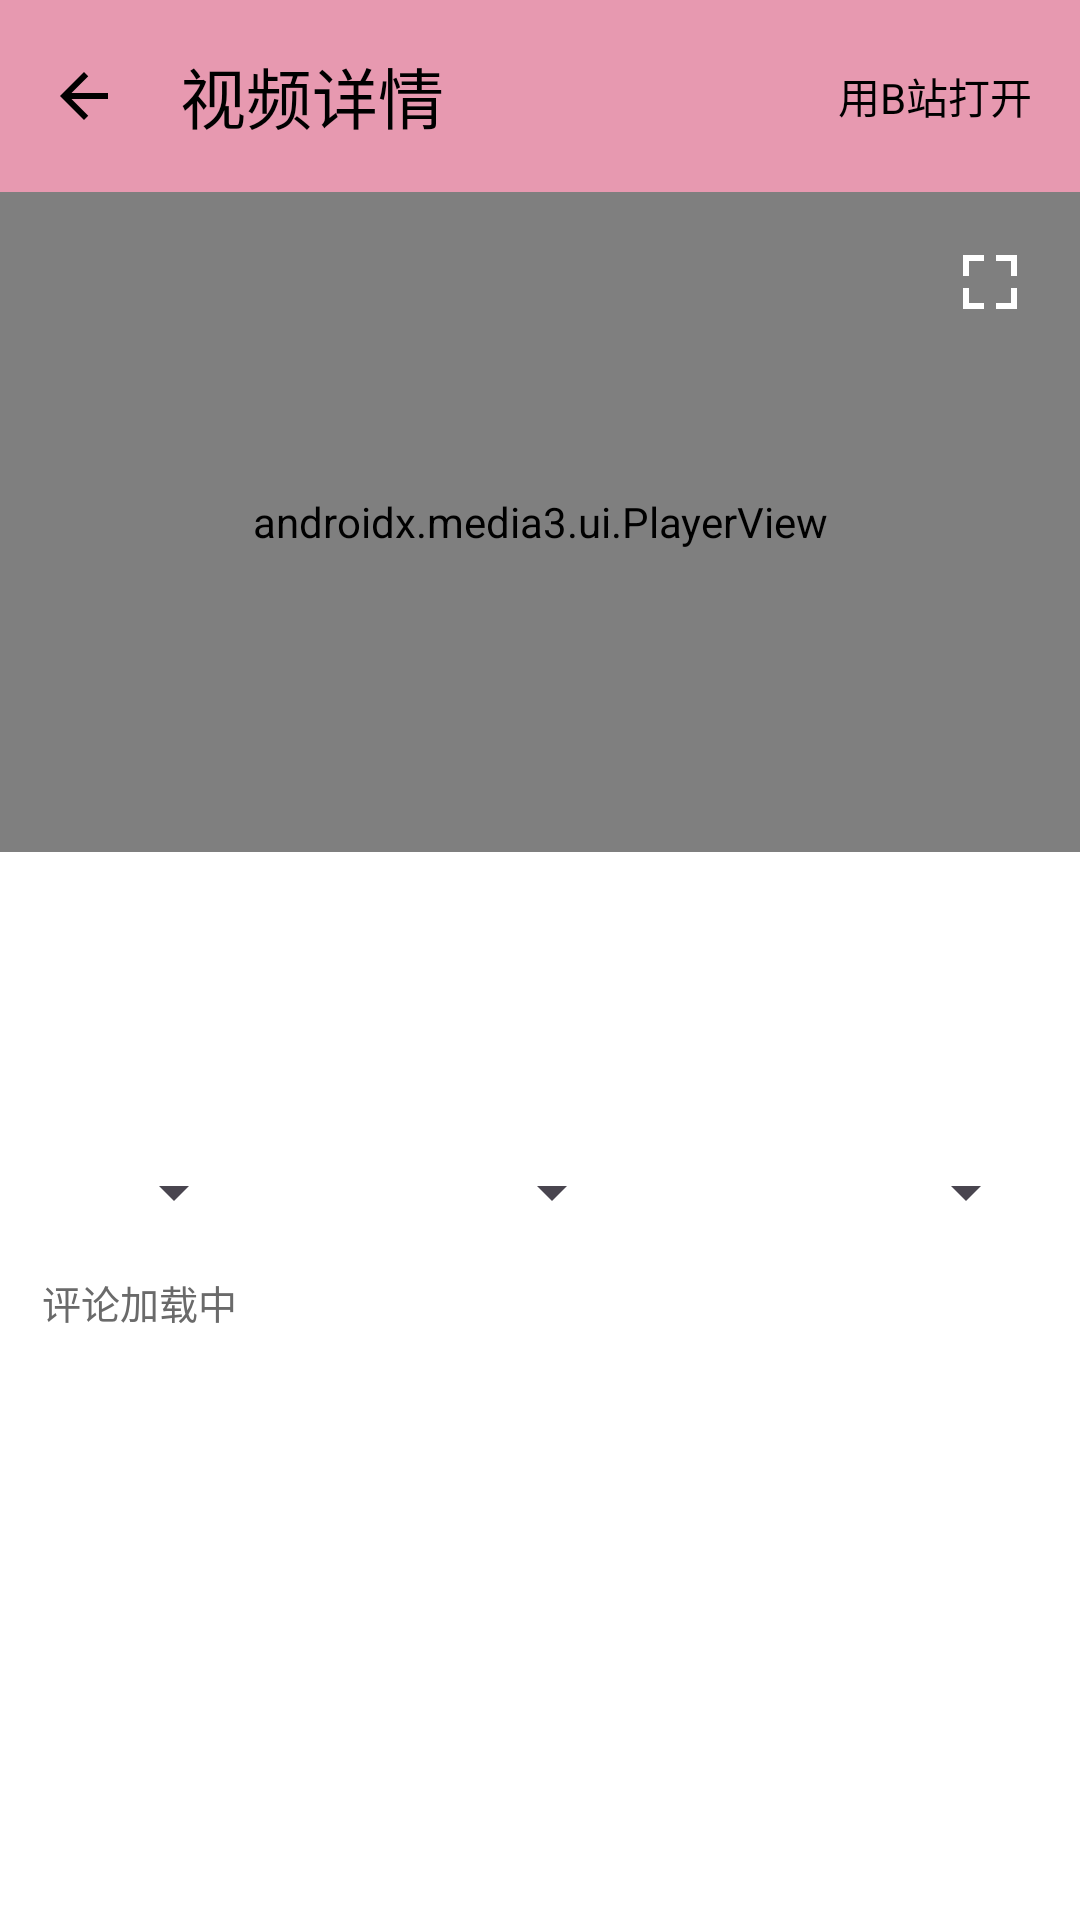

Icon bounding boxes for this 1080 x 1920 phone screenshot, format BBox(x1, y1, x2, y2):
全屏: BBox(963, 255, 1017, 309)
